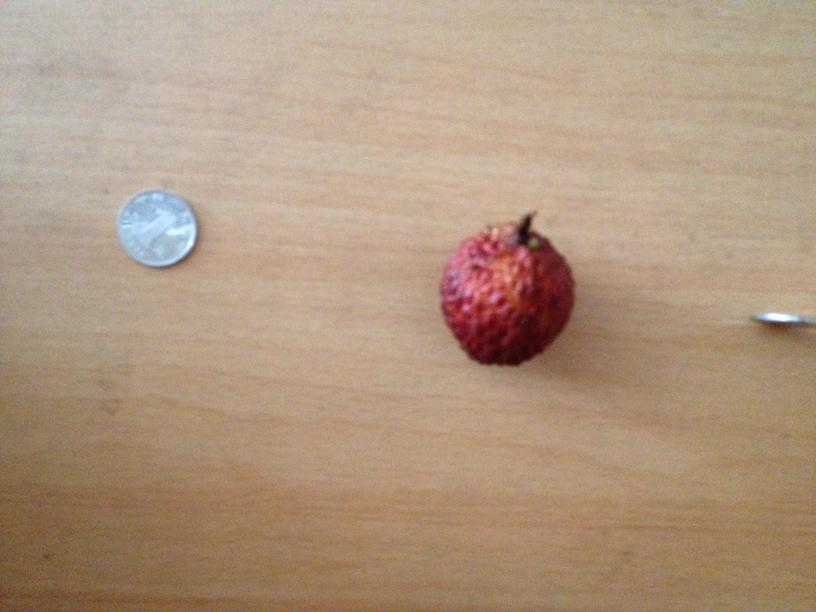coin: (120, 190, 196, 268)
litchi: (438, 220, 574, 368)
